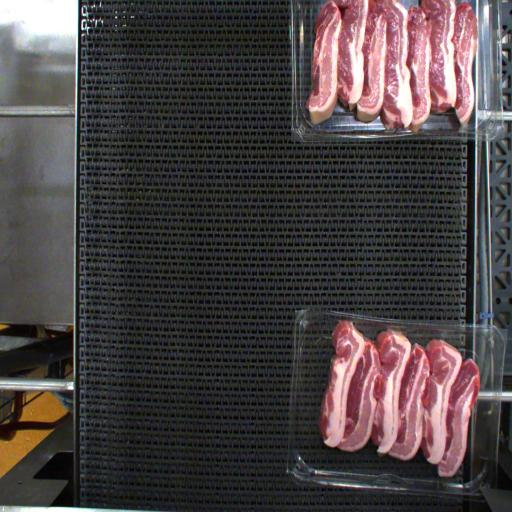packaging-error: (384, 323, 404, 333)
